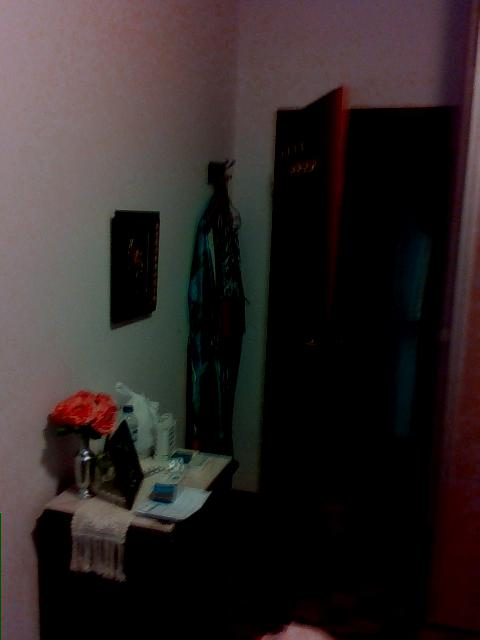semi_door: (259, 81, 456, 599)
